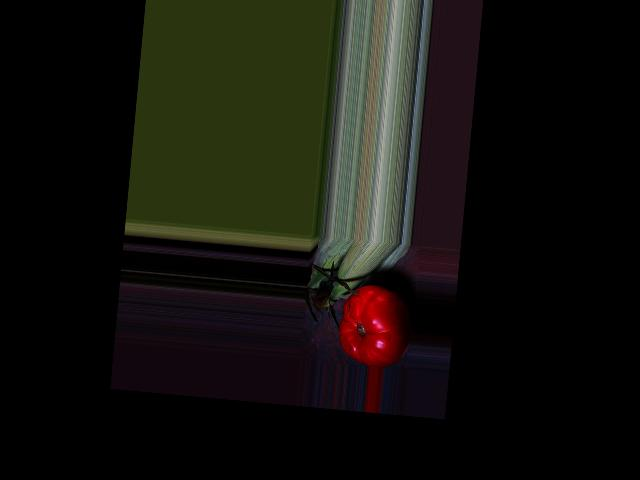tomato: (336, 282, 416, 369)
